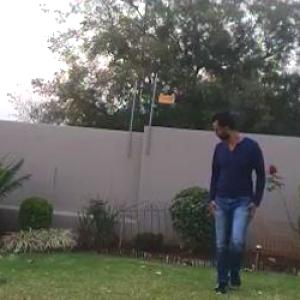follow: (204, 96, 270, 299)
